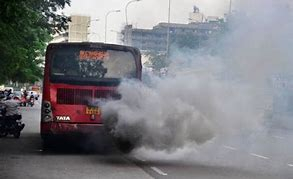smoke: (99, 75, 217, 155)
